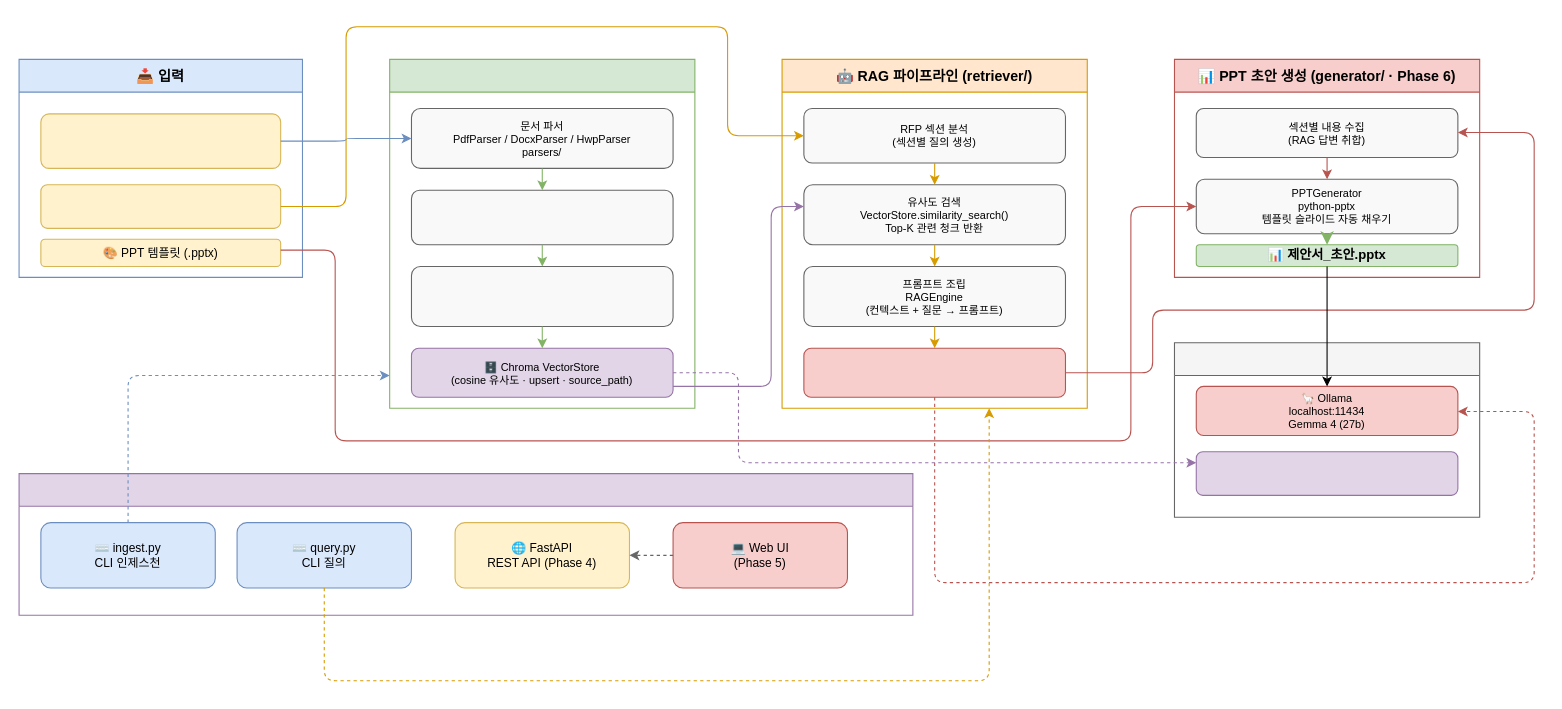
This 1562x709 diagram has some shape labels left out. The box of each missing label's shape, as (x1, y1, x2, y2) in pixels:
⚙️ 외부 런타임 (로컬): (1173, 342, 1480, 517)
임베딩 EmbeddingEngine paraphrase-multilingual-mpnet-base-v2: (410, 265, 673, 326)
텍스트 청킹 TextChunker · Chunk chunker.py: (410, 189, 673, 245)
📄 기존 제안서 PDF / Word / HWP: (40, 113, 281, 168)
📋 RFP 문서: (40, 184, 281, 228)
🔄 인제스천 파이프라인 (ingestion/): (389, 58, 695, 408)
🖥️ 인터페이스: (18, 473, 913, 615)
🗄️ ChromaDB ./chroma_db (파일 기반): (1195, 451, 1458, 495)
🧠 LLM 답변 생성 OllamaLLM + Gemma 4 (localhost:11434): (803, 347, 1065, 397)
